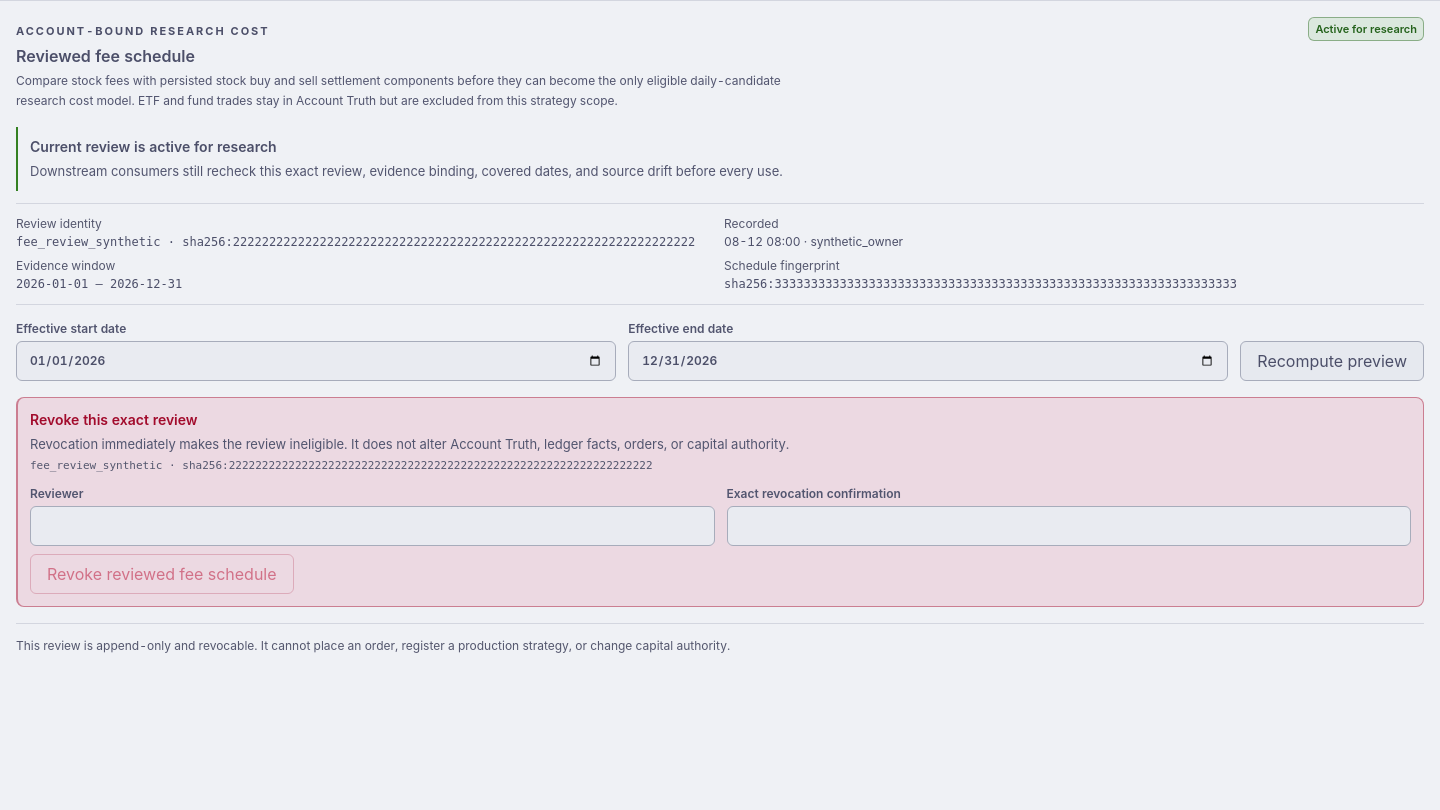
Scenario: revokes the exact accepted review without any order or capital action
The width and height of the screenshot is (1440, 810).
Expected: the heading "Current review is active for research" is shown, [30,137,277,157]
Type "revoking_owner" into the field labelled "Reviewer". click: (372, 526)
box: [30,506,714,546]
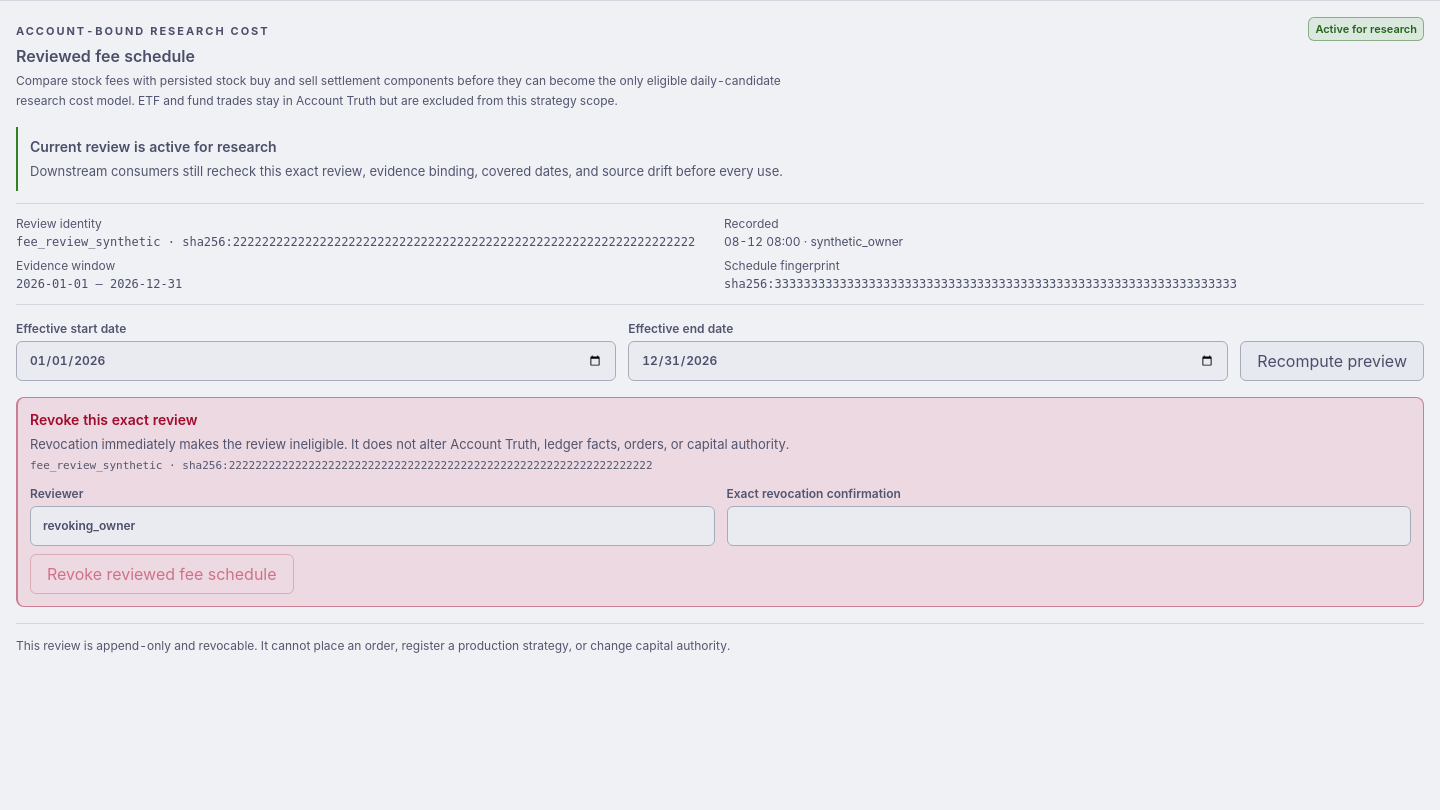
Type "revoke_reconciled_account_fee_schedule_without_execution_or_capital_authority" into the field labelled "Exact revocation confirmation". click: (1069, 526)
box: [726,506,1411,546]
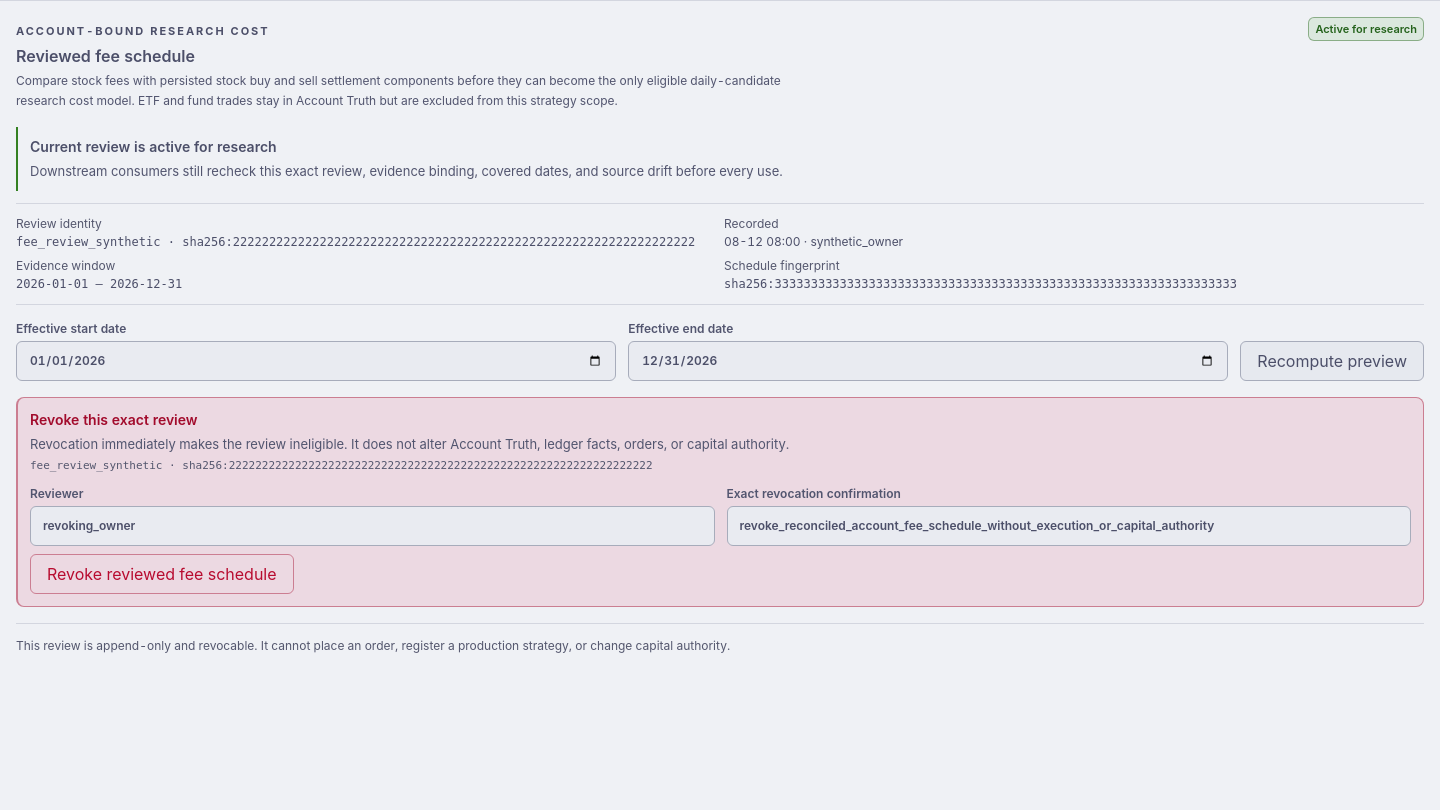
Click the button "Revoke reviewed fee schedule". click: (162, 574)
box: [30,554,294,594]
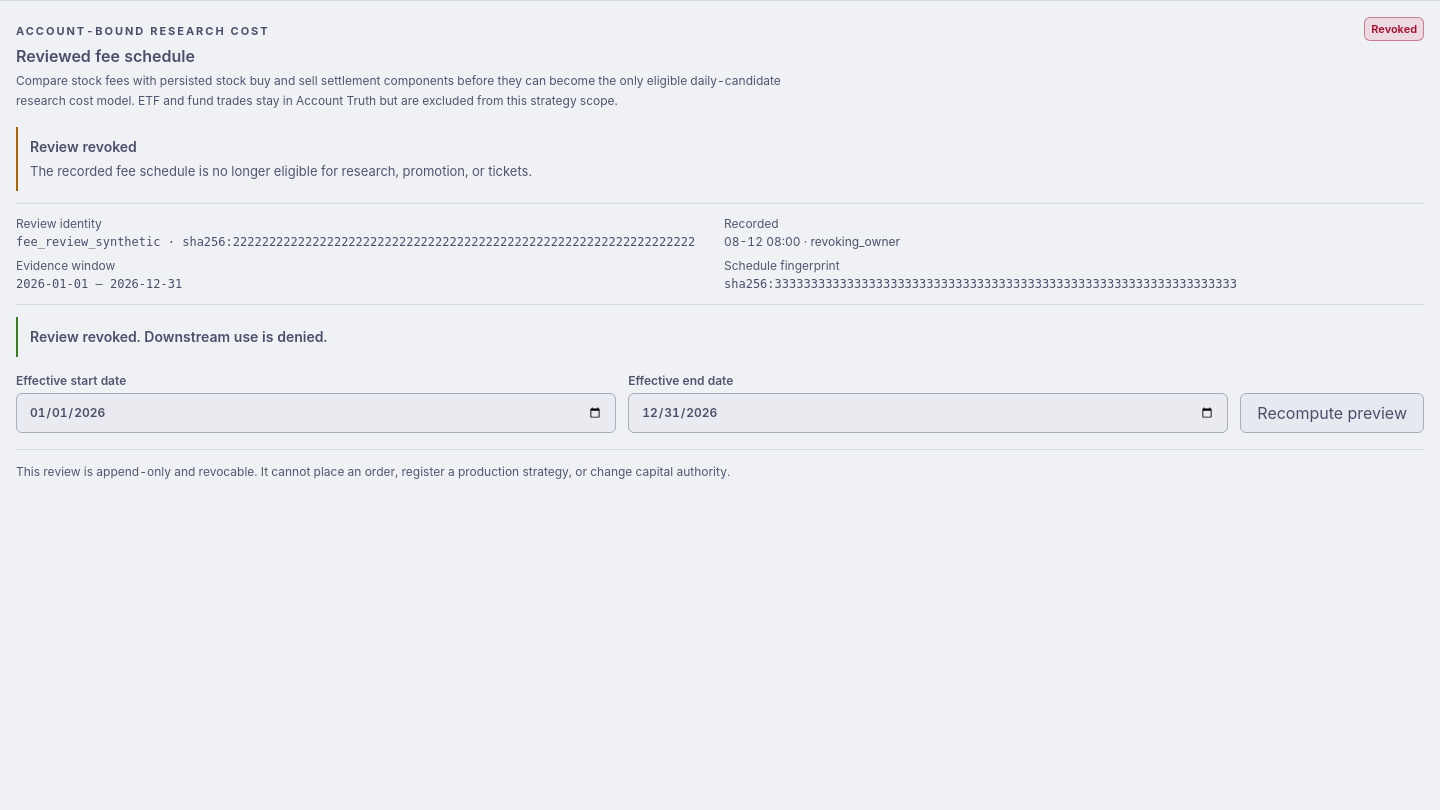
Expected: the heading "Review revoked. Downstream use is denied." is shown, [30,327,327,347]
Expected: the heading "Review revoked" is shown, [30,137,137,157]
